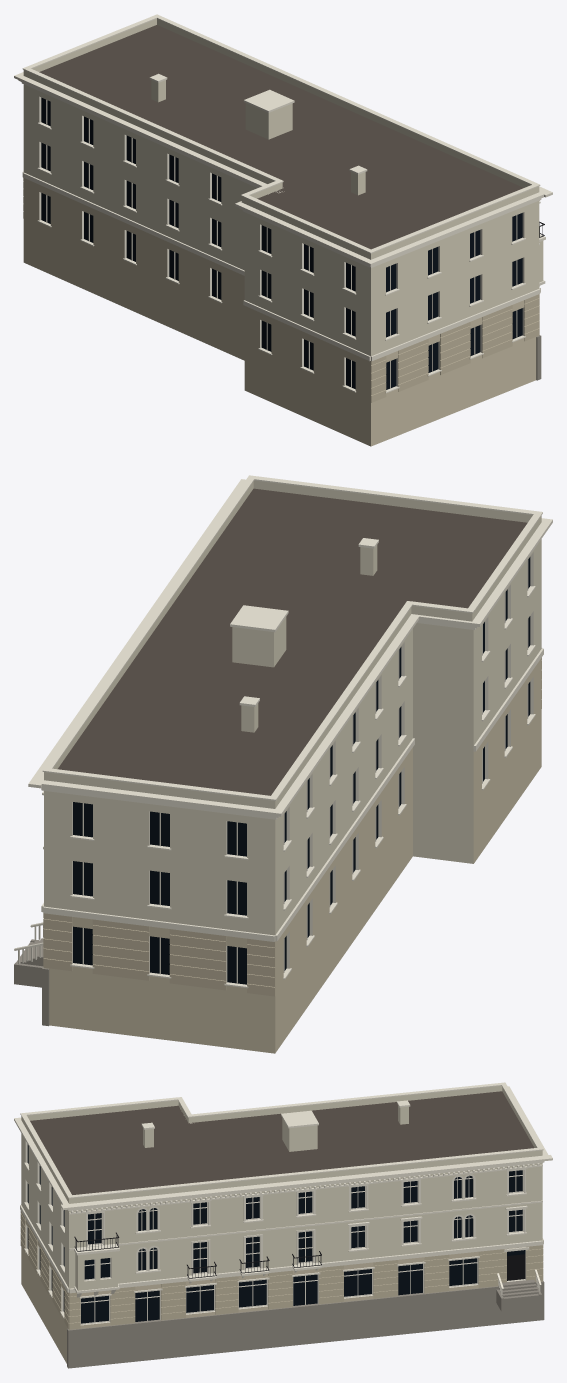
The picture shows the model from 3 angles, top to bottom: view 1: azimuth 30°, elevation 25°; view 2: azimuth 150°, elevation 25°; view 3: azimuth 270°, elevation 25°; orthographic projection. The views are drawn at different scales.
Parts seen in each view (by area): view 1: bm20_wall, bm20_roof, bm20_wall2, bm20_trim, bm20_glass, bm20_wood; view 2: bm20_wall, bm20_roof, bm20_wall2, bm20_trim, bm20_wood, bm20_glass, bm20_stone; view 3: bm20_wall, bm20_roof, bm20_trim, bm20_stone, bm20_glass, bm20_wood, bm20_wall2, bm20_metal.
Boxes of the visible parts, box(x1,y1,x2,y2) form: bm20_wall: box(23, 19, 543, 356); bm20_roof: box(39, 25, 523, 249); bm20_wall2: box(23, 178, 538, 446); bm20_trim: box(14, 14, 552, 393); bm20_glass: box(41, 97, 522, 389); bm20_wood: box(23, 178, 539, 402); bm20_wall: box(44, 480, 541, 935); bm20_roof: box(58, 488, 527, 795); bm20_wall2: box(44, 658, 541, 1053); bm20_trim: box(14, 475, 552, 988); bm20_wood: box(43, 657, 541, 996); bm20_glass: box(73, 557, 530, 984); bm20_stone: box(14, 938, 49, 1026); bm20_wall: box(21, 1086, 542, 1290); bm20_roof: box(30, 1091, 534, 1194); bm20_trim: box(14, 1082, 552, 1325); bm20_stone: box(67, 1279, 544, 1368); bm20_glass: box(27, 1144, 525, 1323); bm20_wood: box(20, 1211, 543, 1329); bm20_wall2: box(21, 1219, 542, 1363); bm20_metal: box(74, 1232, 525, 1280).
Bounding box in the file's own units: 23.85 × 17.25 × 44.38.
